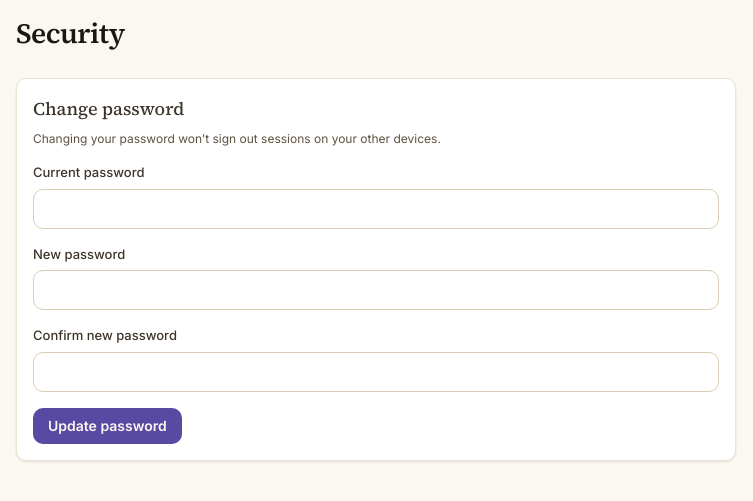
SecurityPage › blocks submit when new and confirm do not match
Type "oldpass12" into the password field named "current password".
click(376, 208); type("oldpass12")  # box [33,188,719,228]
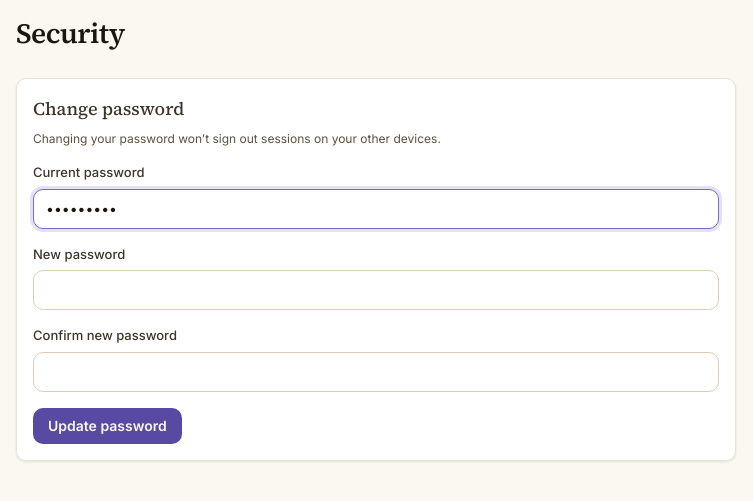
Type "abcdefgh" into the password field named "new password".
click(376, 290); type("abcdefgh")  # box [33,270,719,310]
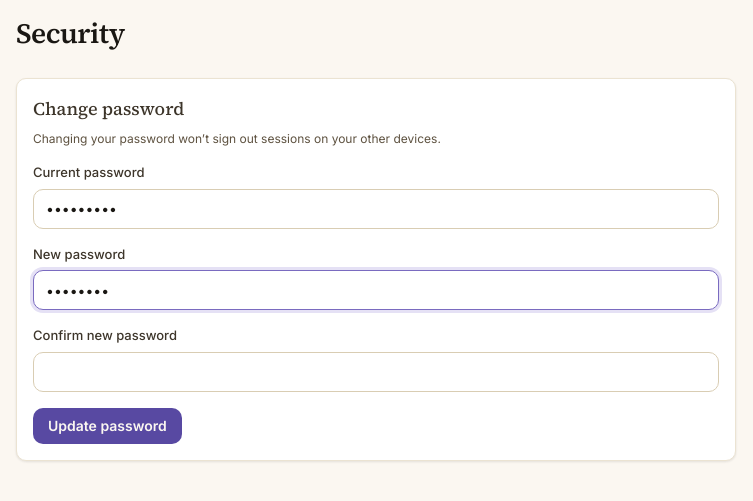
Type "different" into the password field named "confirm new password".
click(376, 372); type("different")  # box [33,352,719,392]
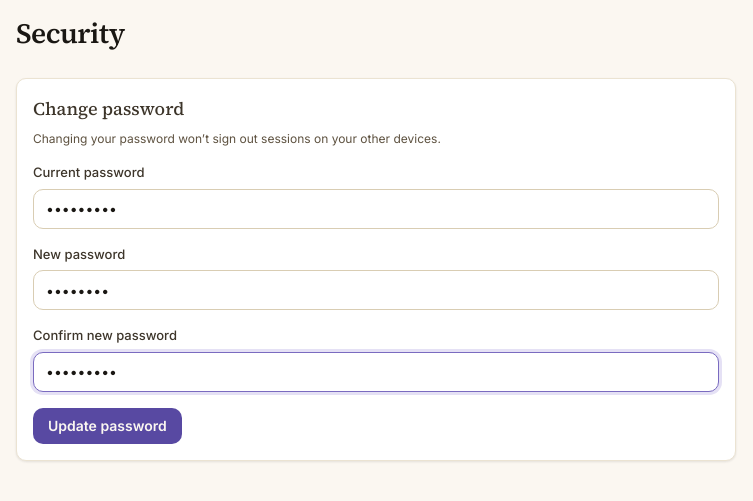
Click the button "Update password".
click(107, 426)  # box [33,408,182,444]
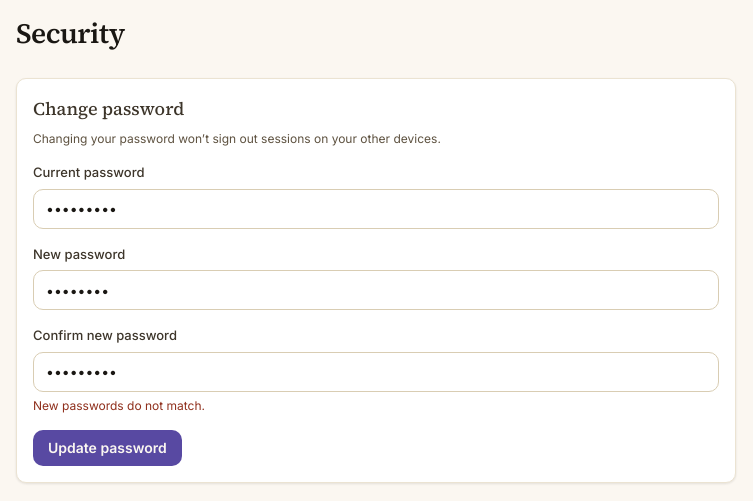
Result: the text "New passwords do not match." is shown at [33,398,205,412]
